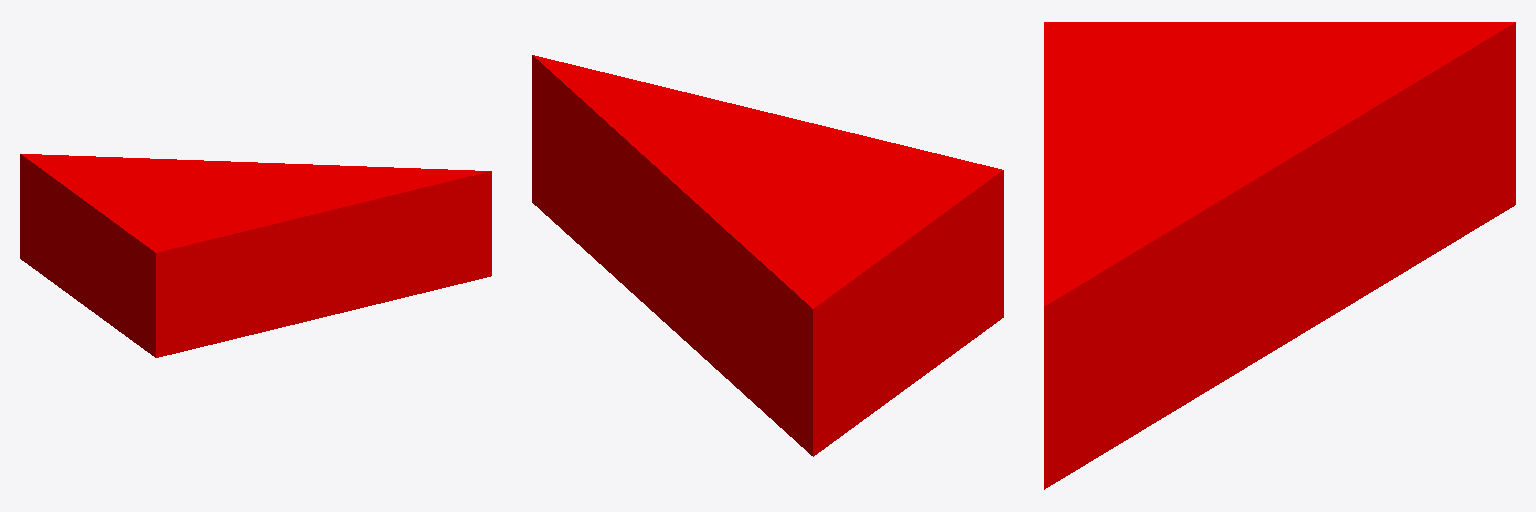
The robot description file, URDF, robot "triangle-object":
<?xml version="1.0"?>
<robot name="triangle-object">

  <link name="base_link">
    <visual>
      <geometry>
        <mesh filename="package://asset/real-world/triangle-object/triangle-object.obj" scale="1 1 1"/>
      </geometry>
      <material name="color">
        <color rgba="1 0 0 1"/> <!-- Red. a: transparency. -->
      </material>
    </visual>
    <collision>
      <geometry>
        <mesh filename="package://asset/real-world/triangle-object/triangle-object.obj" scale="1 1 1"/>
      </geometry>
    </collision>
    <inertial>
      <mass value="28"/> 
      <origin xyz="0 0 0"/> 
      <inertia ixx="1" iyy="1" izz="1"/> 
    </inertial>

  </link>

</robot>

--- What the picture shows (computed from the rendered views, not written in the file) ---
3 views of the same robot in one strip: view 1: azimuth 30°, elevation 25°; view 2: azimuth 150°, elevation 25°; view 3: azimuth 270°, elevation 25° (orthographic).
Robot: triangle-object — 1 links, 0 joints (none); root link base_link; default pose: all joints at 0.
Visible links, largest first — view 1: base_link; view 2: base_link; view 3: base_link.
Link boxes in pixels (x1=…): base_link: x1=20, y1=154, x2=491, y2=357; base_link: x1=532, y1=55, x2=1003, y2=456; base_link: x1=1044, y1=22, x2=1515, y2=489.
Bounding box of the posed robot: 1 × 0.7 × 0.3 m (x, y, z).
1 mesh visuals loaded from 1 distinct referenced files (1 OBJ).